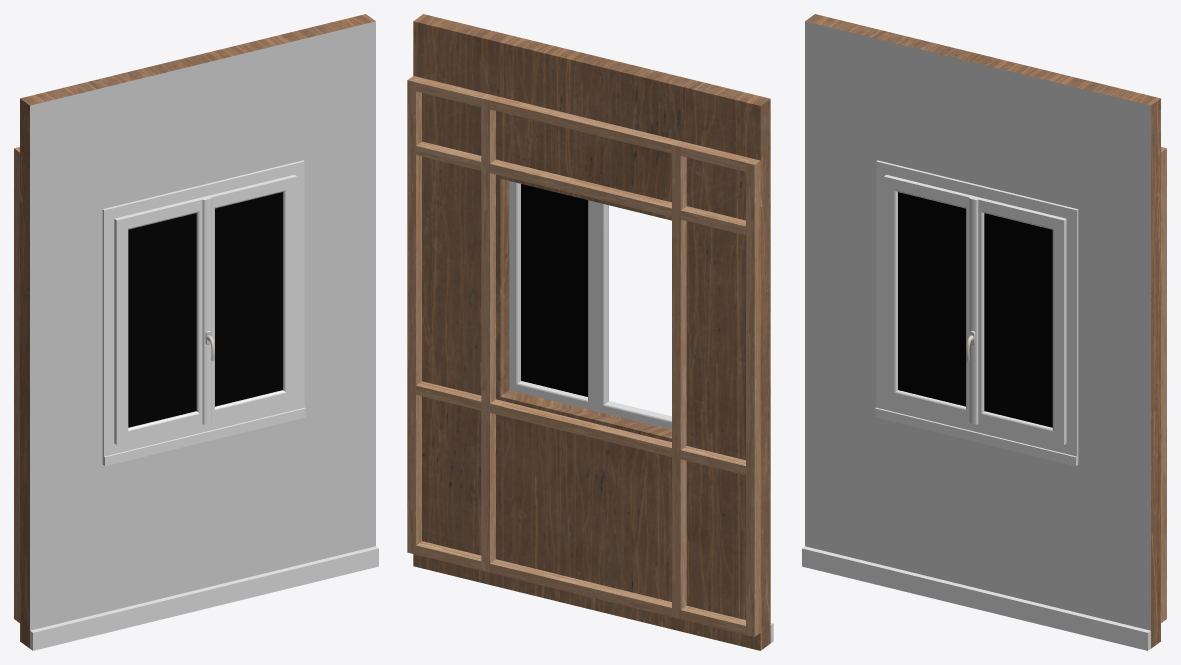
File: MovieSet_WallWindow_01.fbx
3 renders of one model, left to right at view 1: azimuth 30°, elevation 25°; view 2: azimuth 150°, elevation 25°; view 3: azimuth 330°, elevation 25°, orthographic.
Visible parts, largest first — view 1: MovieSet_WallWindow_01; view 2: MovieSet_WallWindow_01; view 3: MovieSet_WallWindow_01.
Boxes of the visible parts, x1,y1,x2,y2 form: MovieSet_WallWindow_01: (14, 14, 378, 650); MovieSet_WallWindow_01: (407, 14, 773, 650); MovieSet_WallWindow_01: (802, 14, 1166, 650).
Size of the model in its own units: 2 by 3 by 0.2688.
